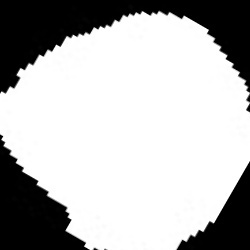spot: (2, 10, 249, 249)
